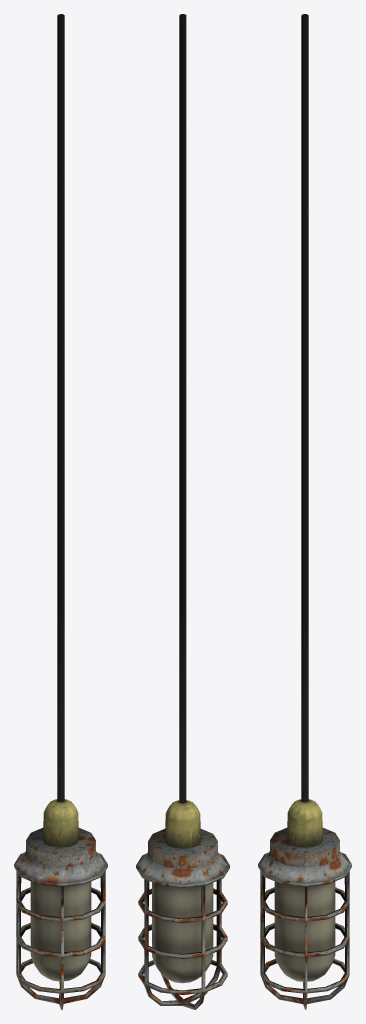
The model's file is BunkerLight.fbx.
3 views of the same model, side by side, from view 1: azimuth 90°, elevation 25°; view 2: azimuth 210°, elevation 25°; view 3: azimuth 270°, elevation 25° (orthographic).
Visible parts, largest first — view 1: Cylinder; view 2: Cylinder; view 3: Cylinder.
Boxes of the visible parts, x1,y1,x2,y2 form: Cylinder: (14,14,107,1009); Cylinder: (136,14,229,1009); Cylinder: (258,14,351,1009).
Bounding box in the file's own units: 0.1868 × 2.17 × 0.1868.
